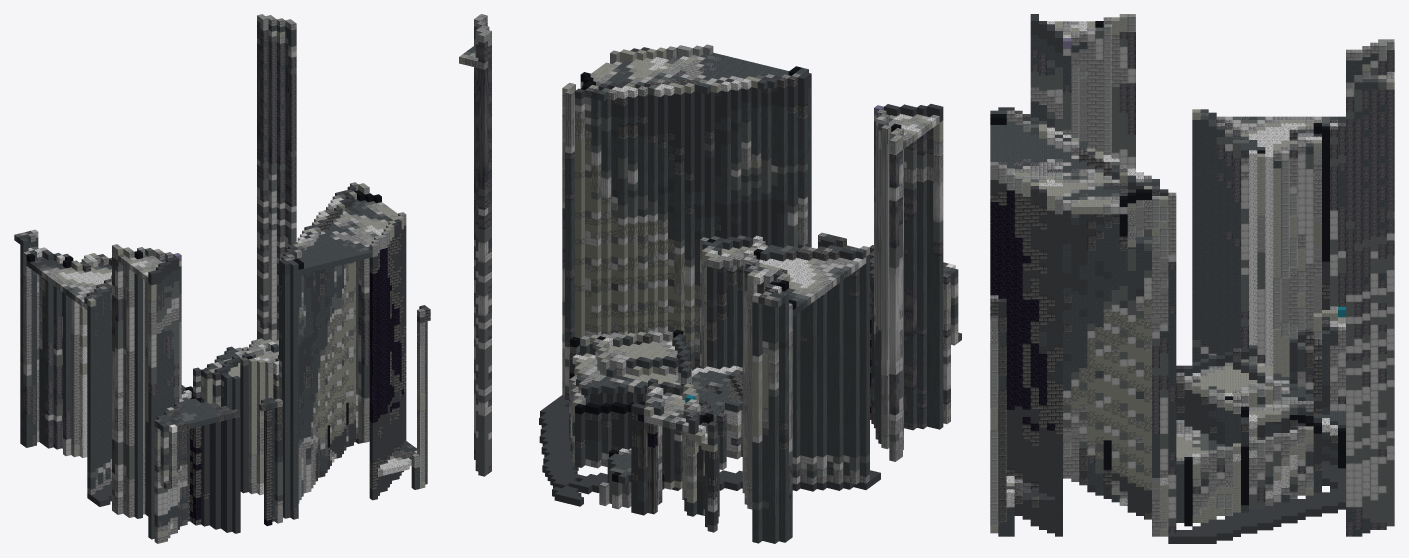
Rendered from tile_2_1.glb.
3 renders of one model, left to right at view 1: azimuth 30°, elevation 25°; view 2: azimuth 150°, elevation 25°; view 3: azimuth 270°, elevation 25°, orthographic. The views are drawn at different scales.
Parts seen in each view (by area): view 1: minecraft:gray_wool:south, minecraft:gray_concrete:south, minecraft:gray_wool:west, minecraft:basalt:south, minecraft:smooth_stone:south, minecraft:basalt:west, minecraft:cyan_terracotta:south, minecraft:stone_bricks:south, minecraft:stone_bricks:west, minecraft:obsidian:south, minecraft:gray_concrete:west, minecraft:gray_wool:up (+24 smaller); view 2: minecraft:gray_wool:north, minecraft:gray_wool:west, minecraft:gray_concrete:north, minecraft:smooth_stone:north, minecraft:cyan_terracotta:north, minecraft:gray_concrete:west, minecraft:stone_bricks:north, minecraft:basalt:north, minecraft:gray_wool:up, minecraft:polished_andesite:north, minecraft:light_gray_concrete:north, minecraft:cyan_terracotta:west (+25 smaller); view 3: minecraft:gray_wool:east, minecraft:gray_concrete:east, minecraft:smooth_stone:east, minecraft:basalt:east, minecraft:cyan_terracotta:east, minecraft:stone_bricks:east, minecraft:polished_andesite:east, minecraft:light_gray_wool:east, minecraft:obsidian:east, minecraft:deepslate_bricks:east, minecraft:gray_wool:up, minecraft:tuff:east (+17 smaller).
Part boxes in pixels (x1,y1,x2,y2): minecraft:gray_wool:south: (23,25,427,539); minecraft:gray_concrete:south: (26,188,415,533); minecraft:gray_wool:west: (20,24,419,538); minecraft:basalt:south: (26,29,369,527); minecraft:smooth_stone:south: (26,30,369,515); minecraft:basalt:west: (23,21,364,526); minecraft:cyan_terracotta:south: (26,36,369,525); minecraft:stone_bricks:south: (26,19,425,543); minecraft:stone_bricks:west: (23,19,419,543); minecraft:obsidian:south: (196,248,403,525); minecraft:gray_concrete:west: (17,187,421,533); minecraft:gray_wool:up: (20,192,407,459); minecraft:gray_wool:north: (474,26,954,543); minecraft:gray_wool:west: (486,22,958,543); minecraft:gray_concrete:north: (539,77,939,525); minecraft:smooth_stone:north: (474,81,954,515); minecraft:cyan_terracotta:north: (474,67,954,532); minecraft:gray_concrete:west: (564,74,954,525); minecraft:stone_bricks:north: (465,24,946,505); minecraft:basalt:north: (474,41,946,487); minecraft:gray_wool:up: (467,46,957,477); minecraft:polished_andesite:north: (474,19,946,509); minecraft:light_gray_concrete:north: (575,138,757,369); minecraft:cyan_terracotta:west: (484,97,958,532); minecraft:gray_wool:east: (998,35,1386,536); minecraft:gray_concrete:east: (990,21,1345,543); minecraft:smooth_stone:east: (1047,34,1394,518); minecraft:basalt:east: (1030,32,1394,536); minecraft:cyan_terracotta:east: (1030,31,1394,526); minecraft:stone_bricks:east: (990,34,1378,529); minecraft:polished_andesite:east: (990,17,1394,529); minecraft:light_gray_wool:east: (990,17,1394,536); minecraft:obsidian:east: (990,190,1054,430); minecraft:deepslate_bricks:east: (990,133,1329,489); minecraft:gray_wool:up: (990,79,1378,489); minecraft:tuff:east: (1063,299,1151,490).
Size of the model in its own units: 50 by 67 by 50.
Materials: 135 (135 with a texture image).
